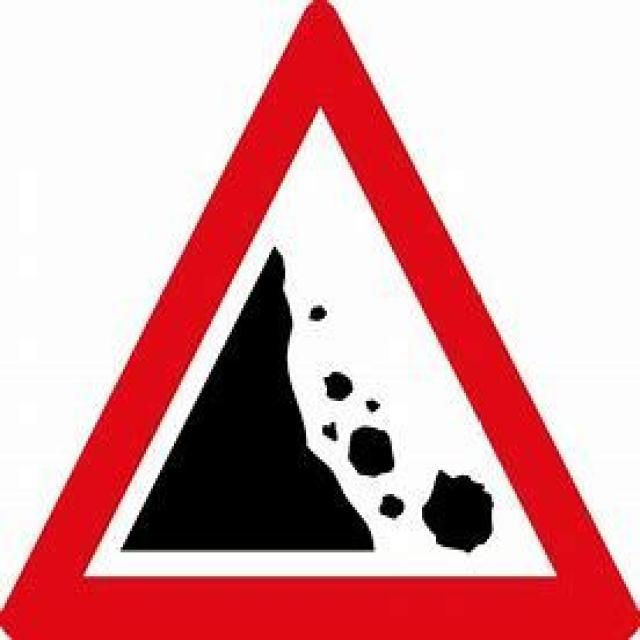falling rocks: (22, 23, 618, 610)
